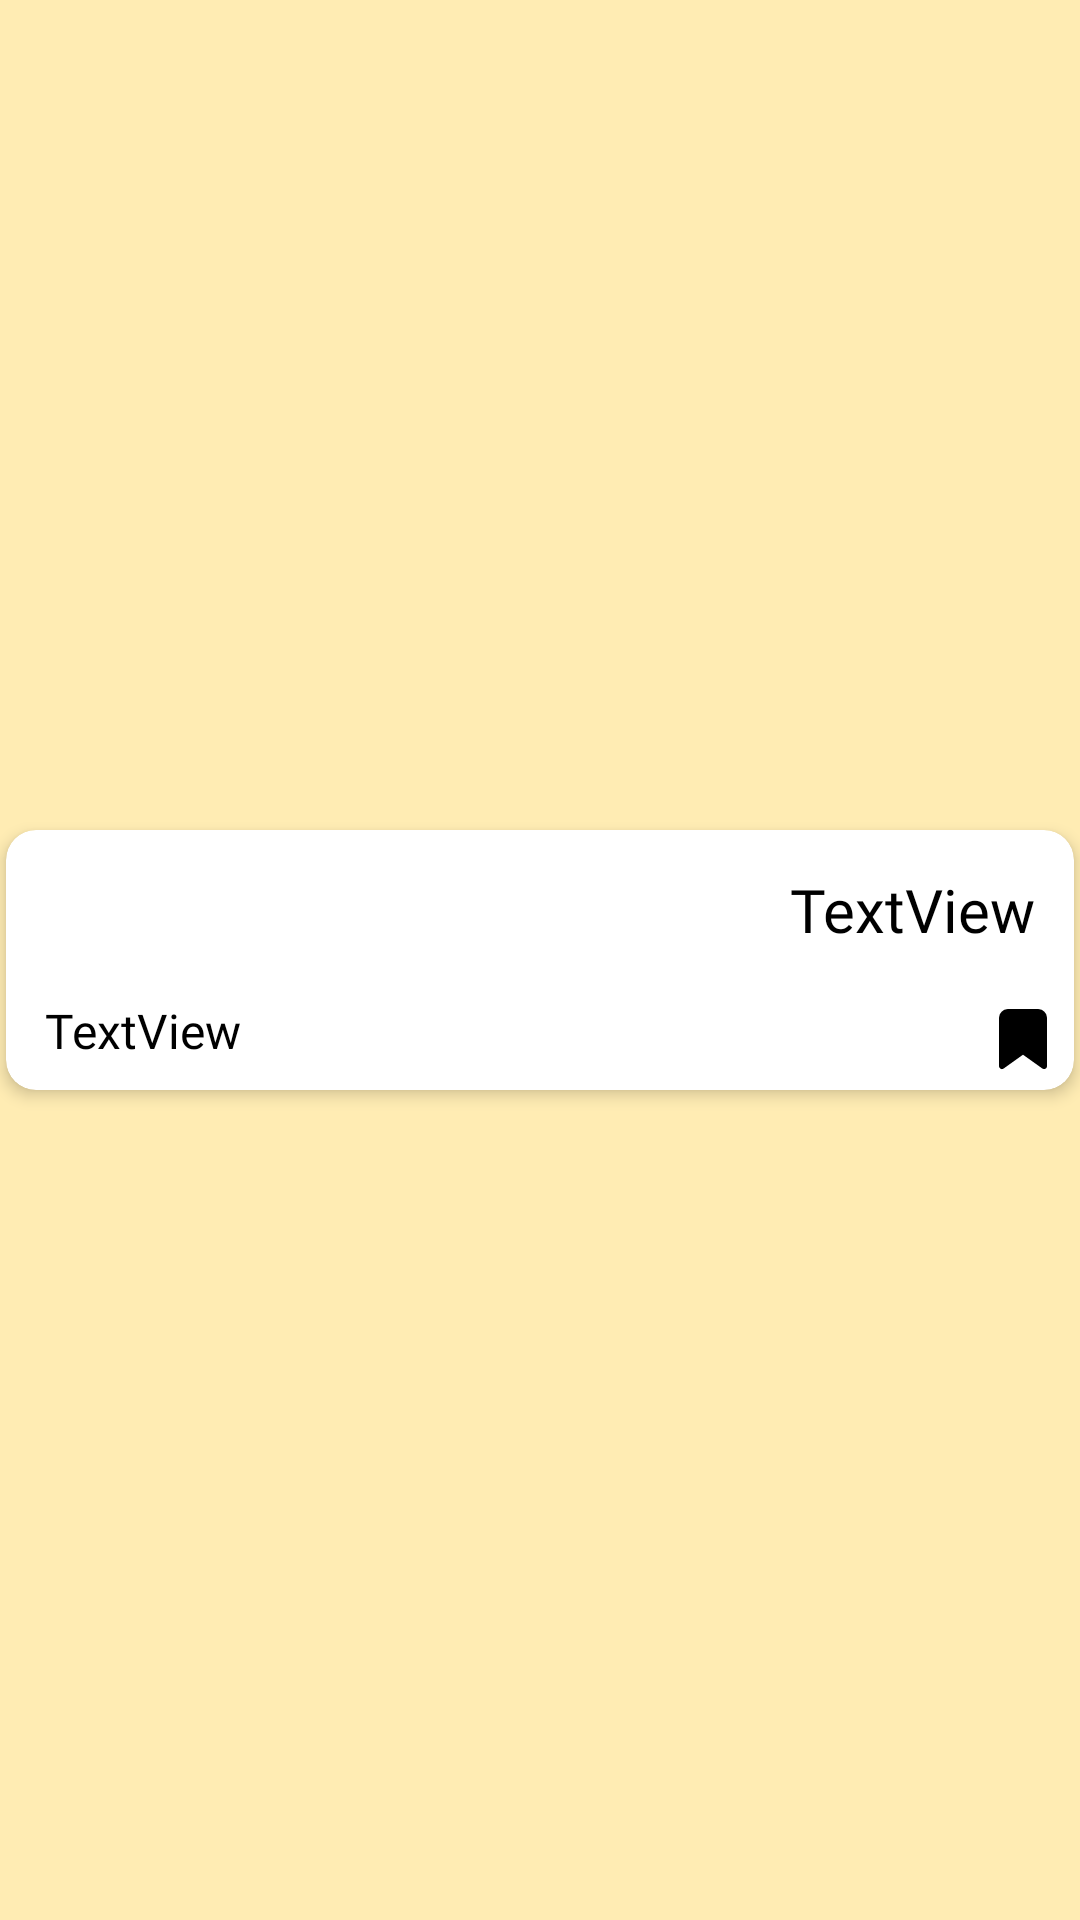

Where to tap for icons on this 1080 x 1920 app screen, as (x=x, y=y):
bookmark: (x=1023, y=1039)
